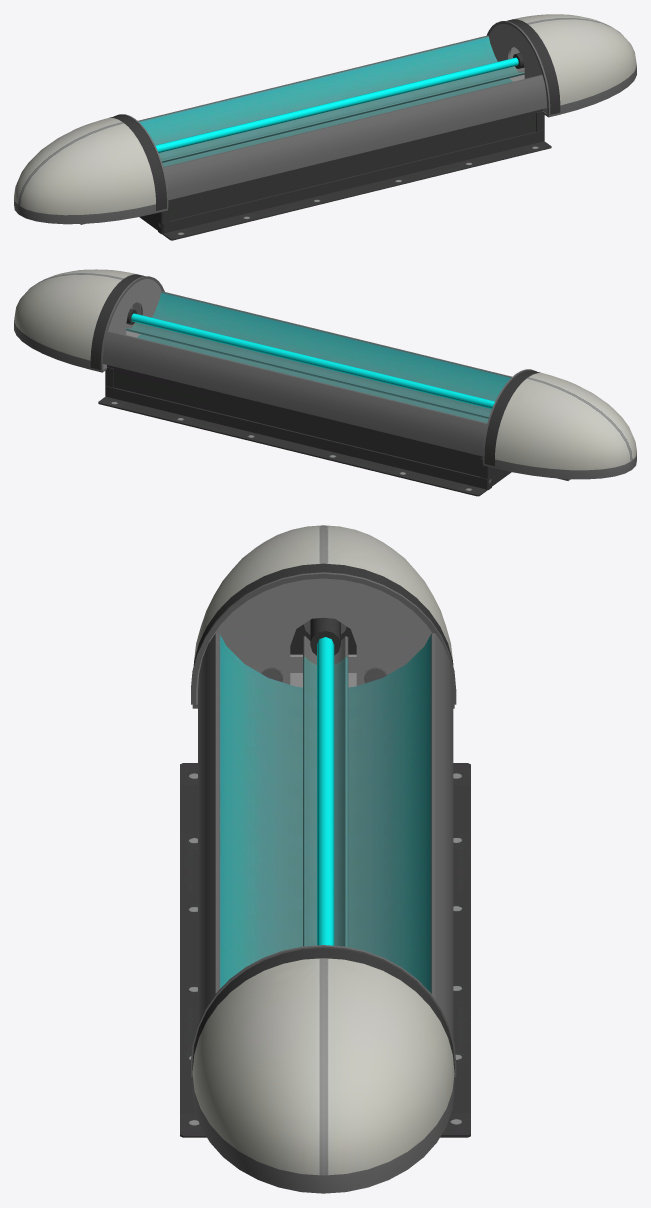
Rendered from light_bridge.glb.
3 renders of one model, top to bottom at view 1: azimuth 30°, elevation 25°; view 2: azimuth 150°, elevation 25°; view 3: azimuth 270°, elevation 25°, orthographic. The views are drawn at different scales.
Parts seen in each view (by area): view 1: EDITOR_hard_light_emitter; view 2: EDITOR_hard_light_emitter; view 3: EDITOR_hard_light_emitter.
Boxes of the visible parts, x1=… form: EDITOR_hard_light_emitter: x1=14, y1=14, x2=636, y2=240; EDITOR_hard_light_emitter: x1=14, y1=269, x2=636, y2=496; EDITOR_hard_light_emitter: x1=180, y1=525, x2=470, y2=1193.
Bounding box in the file's own units: 1.5 × 0.2241 × 0.308.
Materials: 1 (1 with a texture image).
